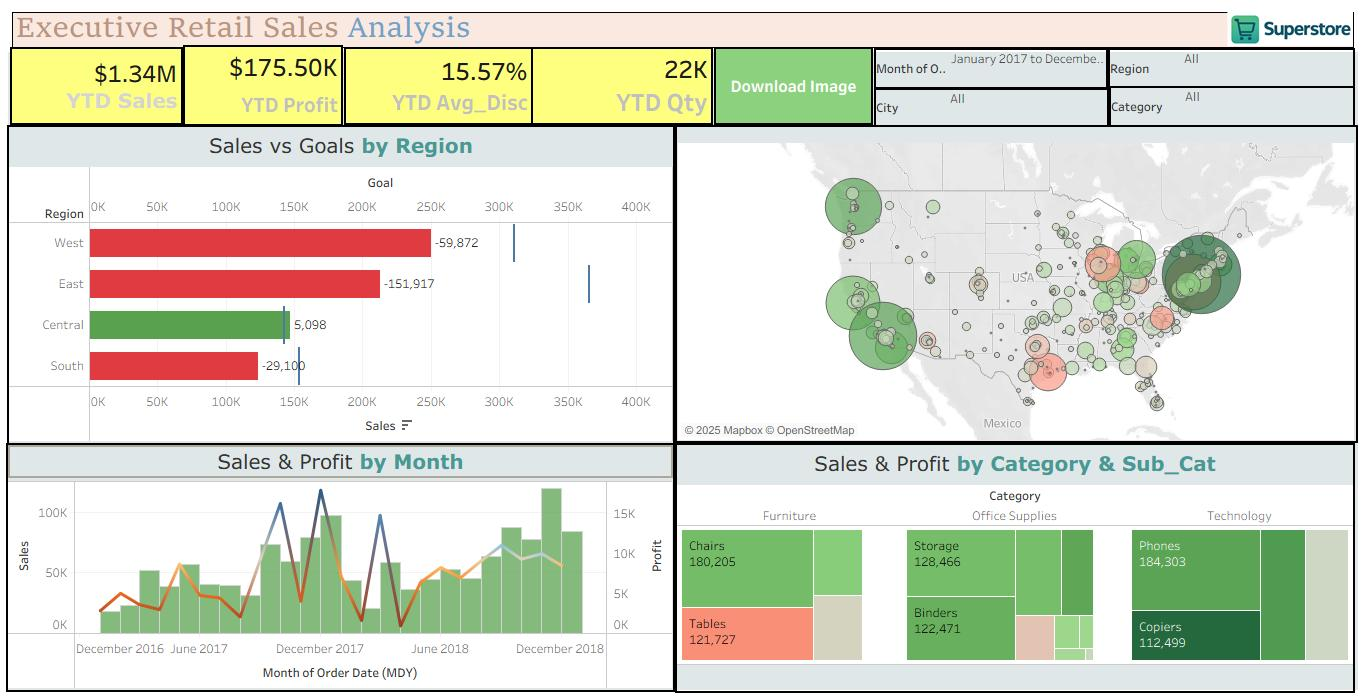

This screenshot's page, from the dashboard's own definition file:
{"tool":"tableau","page":{"name":"Dashboard 1","canvas":[1000,1000],"units":"permille","ordinal":0},"visuals":[{"type":"title","box":[6.9,14.2,986.1,62.1]},{"type":"image","param":"Image/Superstore-image 2.png","box":[897.9,16,92.9,60.5]},{"type":"worksheet","title":"Profit","mark":"Automatic","box":[133.3,40.9,117.8,147.7]},{"type":"worksheet","title":"Sales","mark":"Automatic","box":[6.9,44.5,127.3,147.7]},{"type":"worksheet","title":"Discount","mark":"Automatic","box":[251.1,44.5,139.4,154.8]},{"type":"worksheet","title":"Quantity","mark":"Automatic","box":[383.6,44.5,138.5,147.7]},{"type":"dashboard-object","box":[522.9,67.6,116,112.1]},{"type":"filter","title":"Time_Series","param":"[federated.0n1yw590q4qt2f17w6wlu1ym4l22].[tmn:Order Date (MDY):qk]","box":[639.8,69.4,171.4,58.7]},{"type":"filter","title":"Target_vs_Acheved","param":"[federated.0n1yw590q4qt2f17w6wlu1ym4l22].[none:Region:nk]","box":[811.3,69.4,181,56.9]},{"type":"filter","title":"Tree_Map","param":"[federated.0n1yw590q4qt2f17w6wlu1ym4l22].[none:Category:nk]","box":[812.1,122.8,180.1,58.7]},{"type":"filter","title":"City_Wise","param":"[federated.0n1yw590q4qt2f17w6wlu1ym4l22].[none:City:nk]","box":[639.8,126.3,172.3,55.2]},{"type":"worksheet","title":"Target_vs_Acheved","mark":"Automatic","rows":["Region"],"cols":["Sales","Goal"],"box":[5.2,179.7,489.2,457.3]},{"type":"worksheet","title":"City_Wise","mark":"Automatic","box":[494.4,179.7,499.6,455.5]},{"type":"worksheet","title":"Time_Series","mark":"Automatic","rows":["Sales","Profit"],"cols":["Order Date (MDY)"],"box":[4.3,635.2,490,355.9]},{"type":"worksheet","title":"Tree_Map","mark":"Automatic","cols":["Category"],"box":[494.4,635.2,497.8,357.7]}]}

Visuals, with their boxes on the dashboard's canvas, which has no fixed pixel size, in thousandths of its width and height (x1, y1, x2, y2). These are canvas units, not pixel positions in the 1366x698 screenshot, which may show the page scaled, cropped or inside an application window:
title: pyautogui.locateOnScreen(7, 14, 993, 76)
image: pyautogui.locateOnScreen(898, 16, 991, 76)
"Profit" worksheet: pyautogui.locateOnScreen(133, 41, 251, 189)
"Sales" worksheet: pyautogui.locateOnScreen(7, 44, 134, 192)
"Discount" worksheet: pyautogui.locateOnScreen(251, 44, 390, 199)
"Quantity" worksheet: pyautogui.locateOnScreen(384, 44, 522, 192)
dashboard-object: pyautogui.locateOnScreen(523, 68, 639, 180)
"Time_Series" filter: pyautogui.locateOnScreen(640, 69, 811, 128)
"Target_vs_Acheved" filter: pyautogui.locateOnScreen(811, 69, 992, 126)
"Tree_Map" filter: pyautogui.locateOnScreen(812, 123, 992, 182)
"City_Wise" filter: pyautogui.locateOnScreen(640, 126, 812, 182)
"Target_vs_Acheved" worksheet: pyautogui.locateOnScreen(5, 180, 494, 637)
"City_Wise" worksheet: pyautogui.locateOnScreen(494, 180, 994, 635)
"Time_Series" worksheet: pyautogui.locateOnScreen(4, 635, 494, 991)
"Tree_Map" worksheet: pyautogui.locateOnScreen(494, 635, 992, 993)
